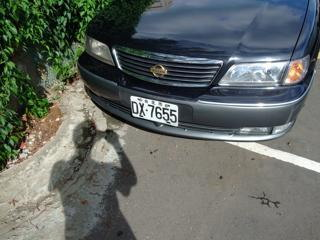plate: (127, 94, 180, 128)
